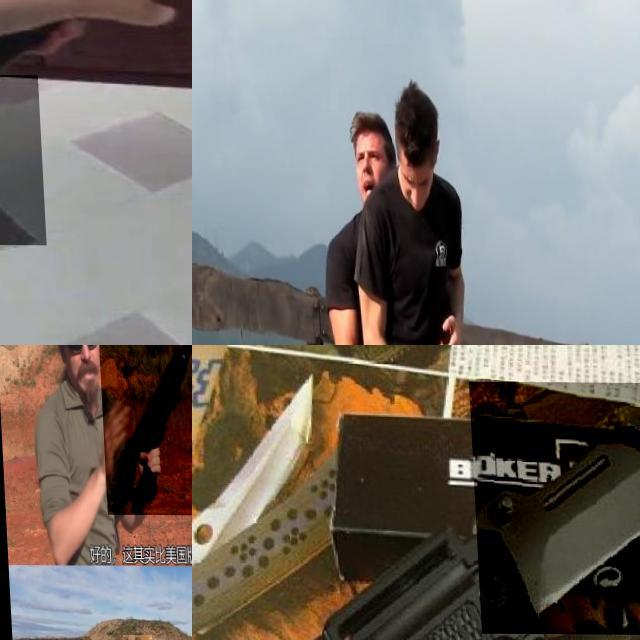-: (468, 380, 640, 634), (0, 73, 150, 245)
gun-knife-thesis - v11 Yolov5 augmented: (96, 345, 192, 515)
